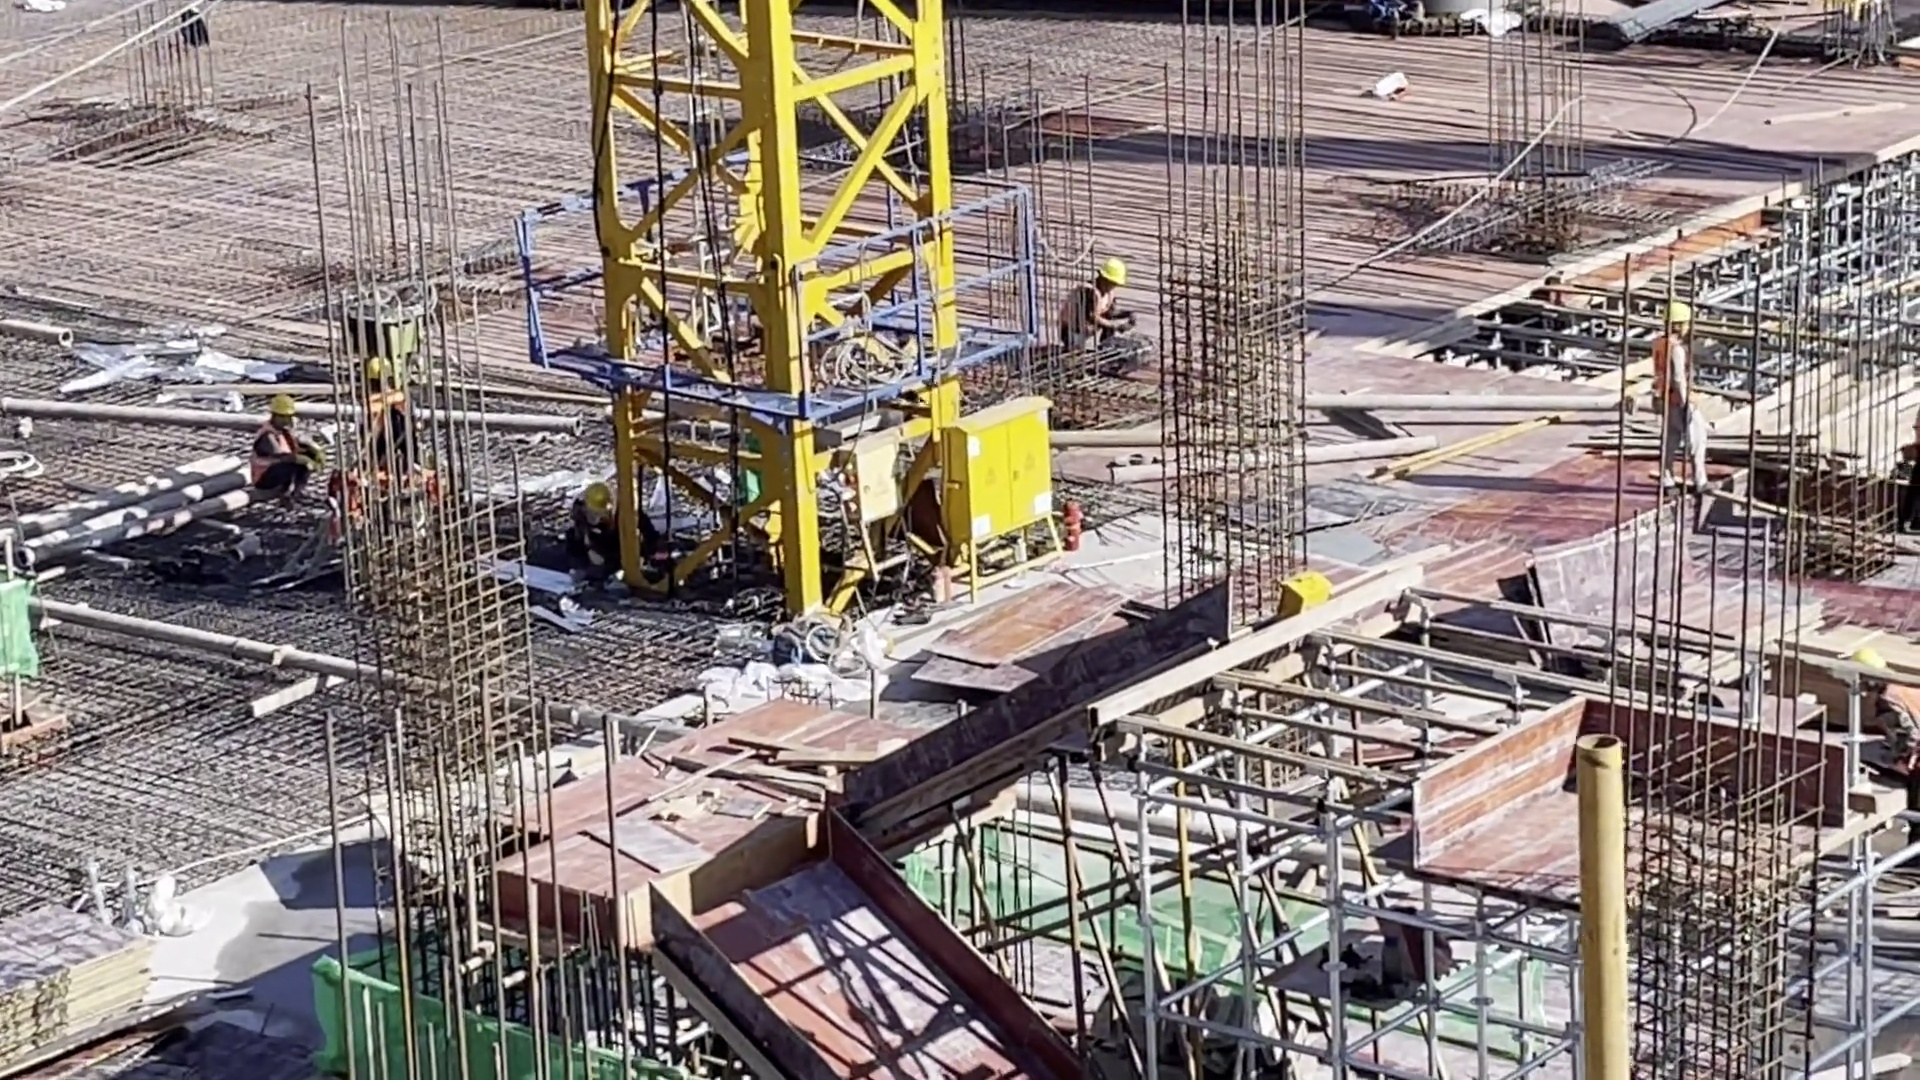board: (1, 913, 162, 1080)
ebox: (948, 389, 1067, 603), (837, 427, 913, 590), (1275, 571, 1337, 621)
helmet: (1099, 254, 1133, 288), (1851, 651, 1885, 686), (267, 393, 299, 423), (1662, 300, 1698, 323)
person: (1650, 300, 1708, 535), (1851, 646, 1920, 792), (242, 394, 326, 500), (1060, 254, 1139, 350), (570, 477, 618, 590)
vest: (1881, 686, 1920, 784), (1649, 334, 1697, 410), (1062, 283, 1117, 342), (247, 434, 289, 500)
